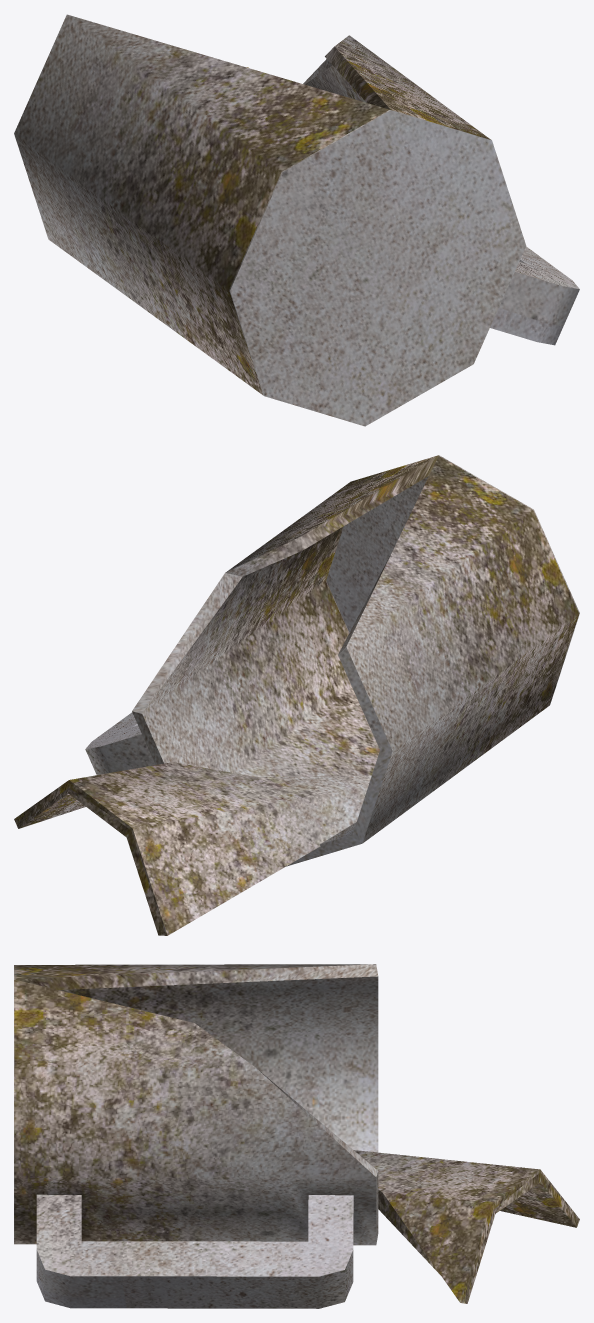
File: BrokenMug3.fbx
3 views of the same model, one above another, from view 1: azimuth 30°, elevation 25°; view 2: azimuth 150°, elevation 25°; view 3: azimuth 270°, elevation 25° (orthographic). The views are drawn at different scales.
Visible parts, largest first — view 1: BrokenMug3; view 2: BrokenMug3; view 3: BrokenMug3.
Part boxes in pixels (x1=…): BrokenMug3: x1=14, y1=14, x2=579, y2=426; BrokenMug3: x1=14, y1=455, x2=579, y2=935; BrokenMug3: x1=14, y1=964, x2=579, y2=1308.
Bounding box in the file's own units: 2.61 × 2.03 × 3.97.
